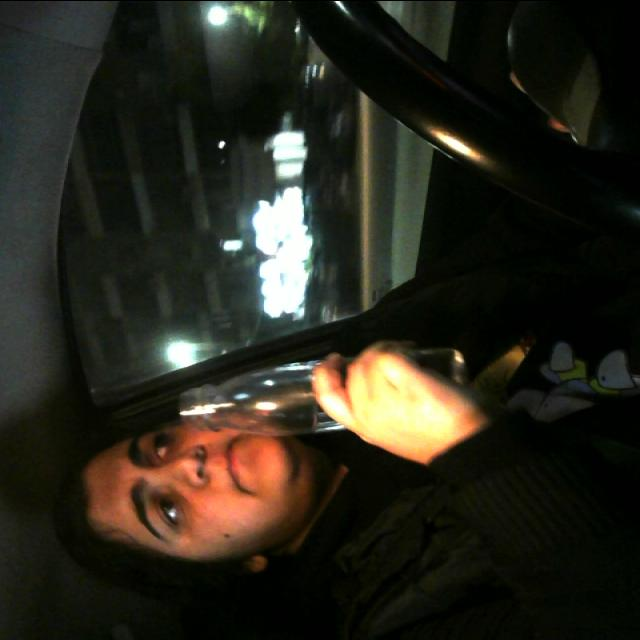drinking: (175, 346, 471, 438)
